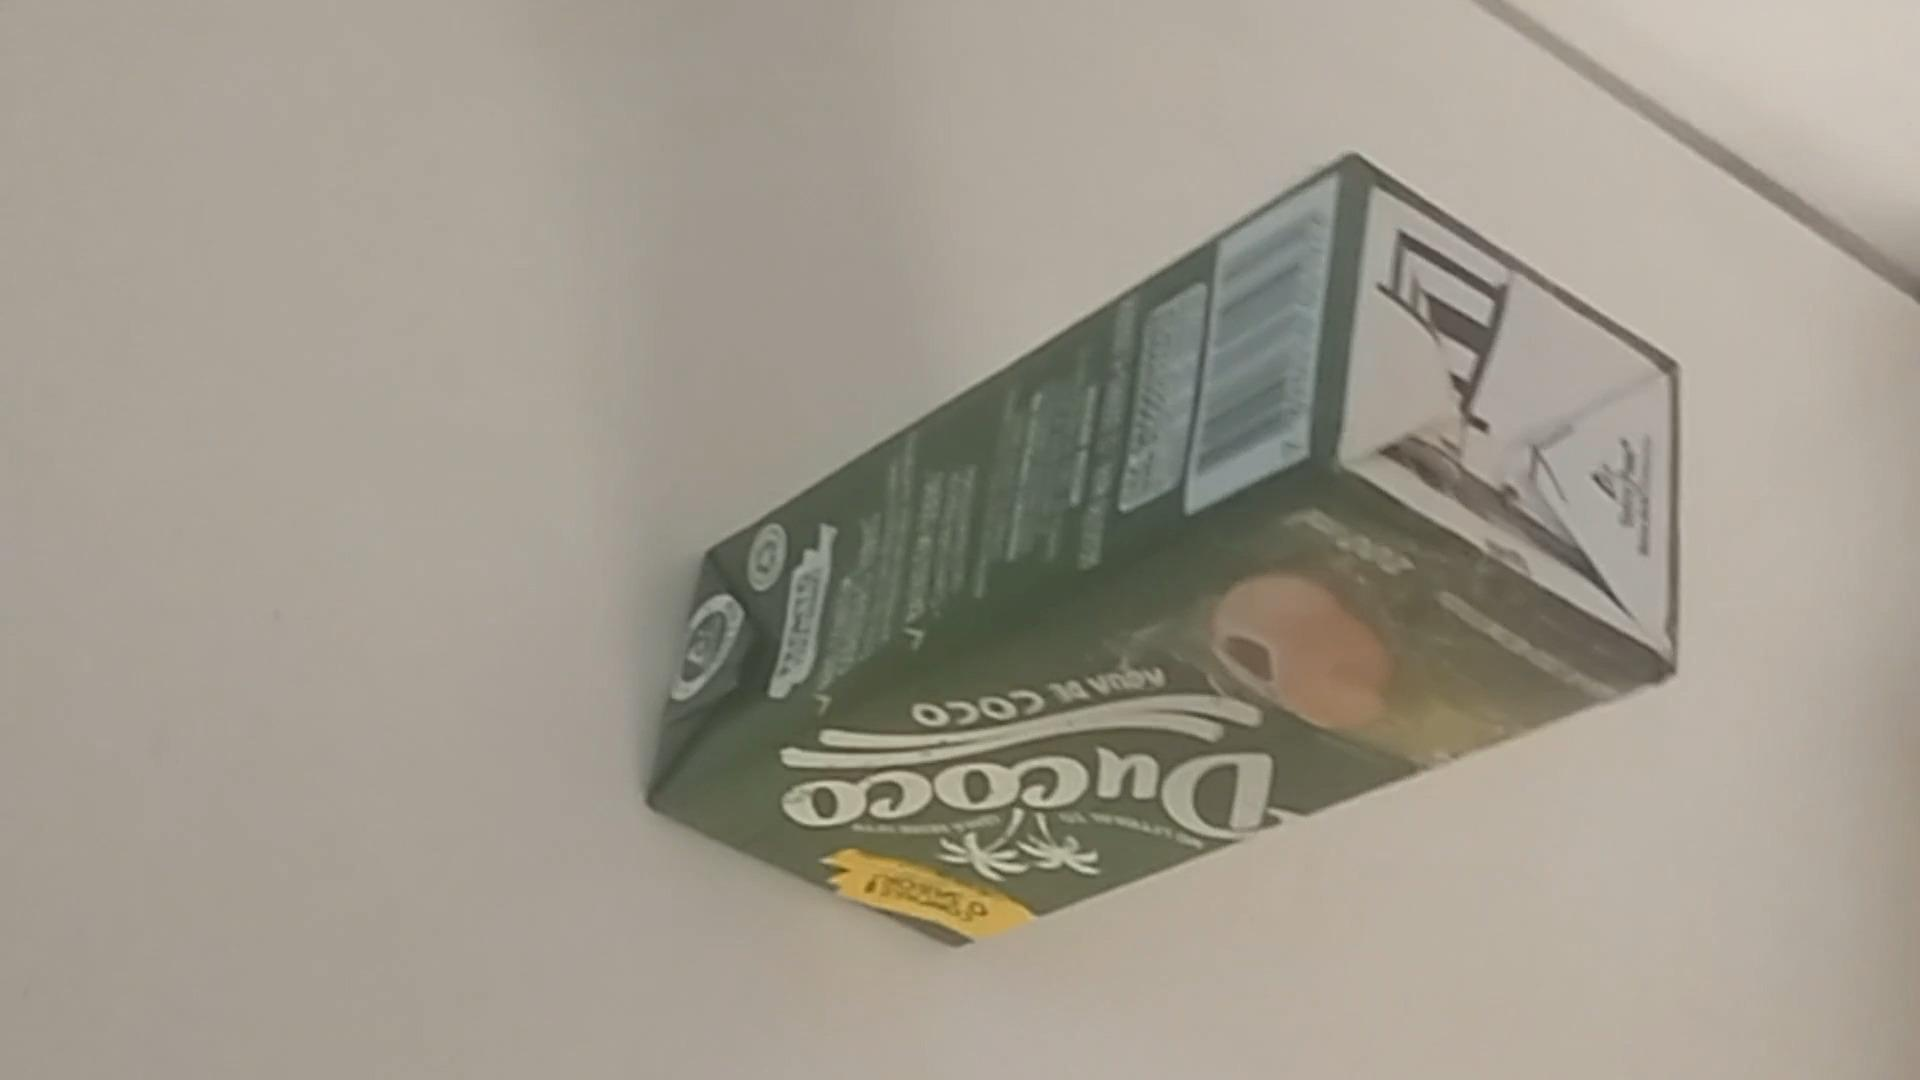coco: (654, 156, 1673, 944)
